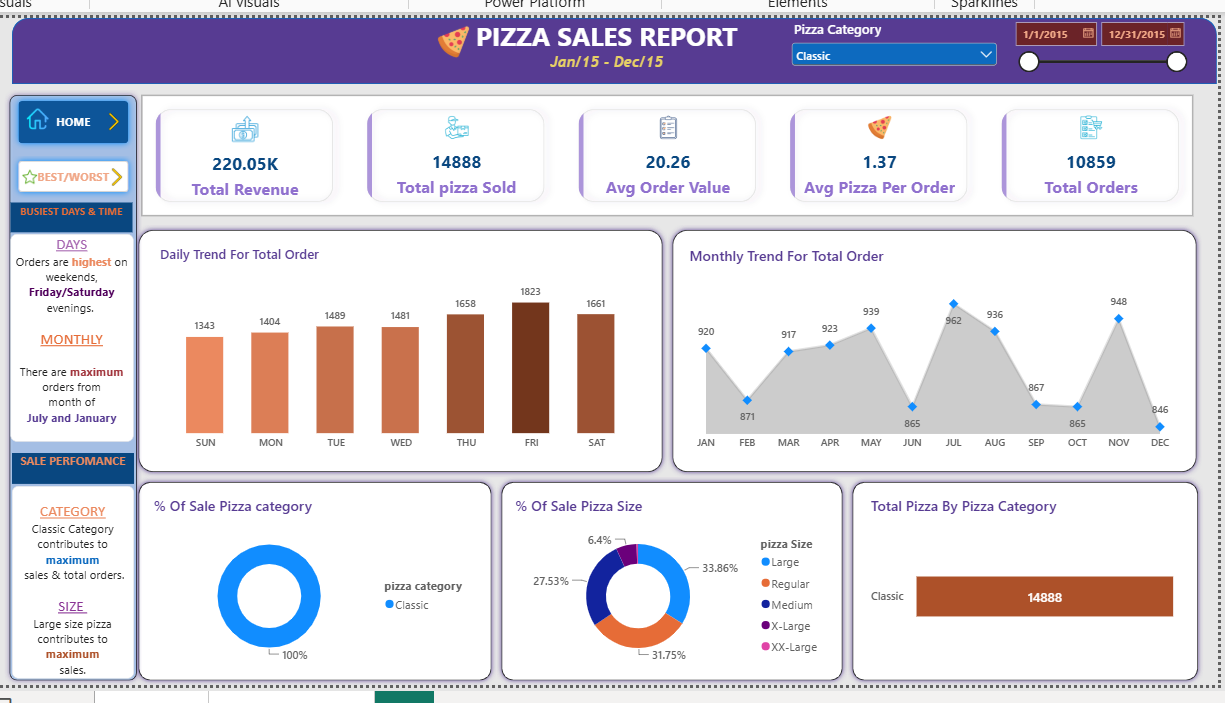

What the dashboard file says about the page in this screenshot:
{"tool":"powerbi","page":{"name":"HOME","canvas":[1500,820],"ordinal":0},"visuals":[{"type":"cardVisual","fields":{"Data":["public pizza_sales.Total Revenue","public pizza_sales.Total pizza Sold","public pizza_sales.avg_amount_spent_per_order","public pizza_sales.Average Pizza Per Order","public pizza_sales.Total Orders"]},"box":[177,94.1,1298.5,150],"z":0},{"type":"shape","box":[17.8,0,1481.1,81.1],"z":1000},{"type":"textbox","box":[529.6,0,440.7,59],"z":2000},{"type":"textbox","box":[621.5,42.4,256.3,51.6],"z":3000},{"type":"image","box":[529.3,7.4,63.3,43.3],"z":4000},{"type":"shape","box":[167.8,254.5,656.5,309.8],"z":5000},{"type":"columnChart","title":"Daily Trend For Total Order","fields":{"Category":["public pizza_sales.Order Day"],"Y":["public pizza_sales.Total Orders"]},"box":[184.4,265.6,625.2,285.8],"z":6000},{"type":"shape","box":[824.3,254.5,656.5,309.8],"z":7000},{"type":"areaChart","title":"Monthly Trend For Total Order","fields":{"Category":["public pizza_sales.Order Month"],"Y":["public pizza_sales.Total Orders"]},"box":[835.4,265.6,630.7,285.8],"z":8000},{"type":"shape","box":[167.8,564.3,446.3,256.3],"z":9000},{"type":"shape","box":[614.1,564.3,431.5,256.3],"z":10000},{"type":"shape","box":[1045.6,564.3,437.1,256.3],"z":11000},{"type":"donutChart","title":"% Of Sale Pizza category","fields":{"Category":["public pizza_sales.pizza_category"],"Y":["public pizza_sales.Total Revenue"]},"box":[177.2,573.9,427.2,237],"z":12000},{"type":"donutChart","title":"% Of Sale Pizza Size","fields":{"Category":["public pizza_sales.pizza_size"],"Y":["public pizza_sales.Total Revenue"]},"box":[621.7,573.9,416.3,237],"z":13000},{"type":"funnel","title":"Total Pizza By Pizza Category","fields":{"Category":["public pizza_sales.pizza_category"],"Y":["public pizza_sales.Total pizza Sold"]},"box":[1057.7,573.2,408.5,236.6],"z":14000},{"type":"shape","box":[8.9,87.8,168.9,732.2],"z":15000},{"type":"textbox","box":[17,226.9,150,36.7],"z":16000},{"type":"textbox","box":[17,264.7,151.3,255.3],"z":17000},{"type":"textbox","box":[17.8,574.4,150,236.7],"z":18000},{"type":"textbox","box":[17.8,535.6,150,37.8],"z":19000},{"type":"slicer","fields":{"Values":["public pizza_sales.pizza_category"]},"box":[971.2,2.5,262.3,81.1],"z":19001},{"type":"slicer","fields":{"Values":["public pizza_sales.order_date"]},"box":[1245,0,221.2,73.8],"z":19002},{"type":"pageNavigator","box":[18.9,94.5,151.3,68.1],"z":19003},{"type":"pageNavigator","box":[18.9,168.3,151.3,54.8],"z":19004},{"type":"image","box":[7.4,111.1,85.2,26.9],"z":19005},{"type":"image","box":[136.8,178.3,21.7,33.6],"z":19006},{"type":"image","box":[132.1,111.3,21.7,33.6],"z":19007},{"type":"image","box":[30.7,161.4,17.9,65.7],"z":19008}]}

Visuals, with their boxes in screenshot pixels (x1, y1, x2, y2):
cardVisual - public pizza_sales.Total Revenue x public pizza_sales.Total pizza Sold: [left=139, top=92, right=1185, bottom=213]
shape: [left=11, top=16, right=1204, bottom=81]
textbox: [left=423, top=16, right=778, bottom=63]
textbox: [left=497, top=50, right=704, bottom=92]
image: [left=423, top=22, right=474, bottom=57]
shape: [left=132, top=221, right=661, bottom=470]
"Daily Trend For Total Order" columnChart: [left=145, top=230, right=649, bottom=460]
shape: [left=661, top=221, right=1189, bottom=470]
"Monthly Trend For Total Order" areaChart: [left=670, top=230, right=1178, bottom=460]
shape: [left=132, top=470, right=491, bottom=677]
shape: [left=491, top=470, right=839, bottom=677]
shape: [left=839, top=470, right=1191, bottom=677]
"% Of Sale Pizza category" donutChart: [left=140, top=478, right=484, bottom=669]
"% Of Sale Pizza Size" donutChart: [left=498, top=478, right=833, bottom=669]
"Total Pizza By Pizza Category" funnel: [left=849, top=478, right=1178, bottom=668]
shape: [left=4, top=87, right=140, bottom=676]
textbox: [left=11, top=199, right=131, bottom=228]
textbox: [left=11, top=229, right=132, bottom=435]
textbox: [left=11, top=479, right=132, bottom=669]
textbox: [left=11, top=447, right=132, bottom=478]
slicer - public pizza_sales.pizza_category: [left=779, top=18, right=990, bottom=83]
slicer - public pizza_sales.order_date: [left=1000, top=16, right=1178, bottom=75]
pageNavigator: [left=12, top=92, right=134, bottom=147]
pageNavigator: [left=12, top=151, right=134, bottom=196]
image: [left=3, top=105, right=71, bottom=127]
image: [left=107, top=160, right=124, bottom=187]
image: [left=103, top=106, right=121, bottom=133]
image: [left=22, top=146, right=36, bottom=199]
